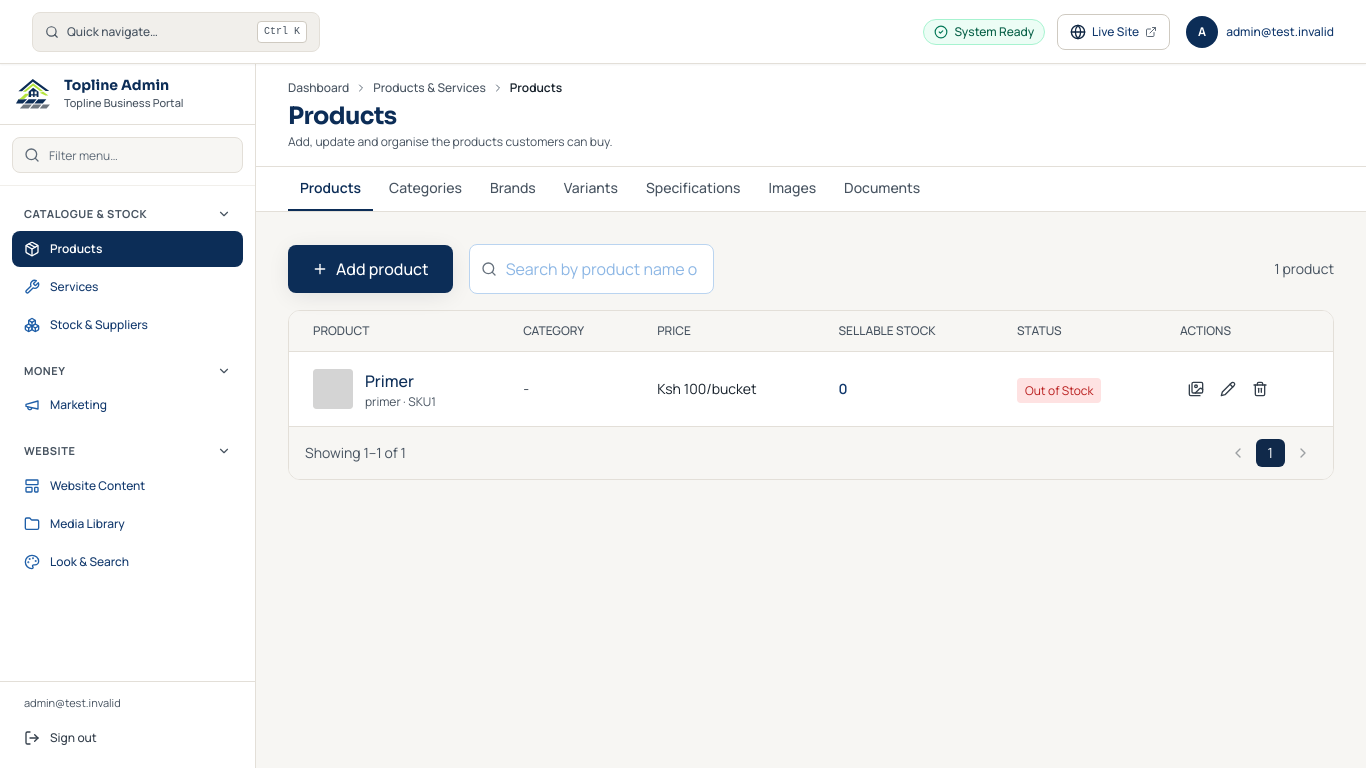
it: admin: edit product › explains a refused update in plain words instead of failing silently
Click the button titled "Edit product". click: (1228, 389)
box: [1212, 373, 1244, 405]
(page scrolled)
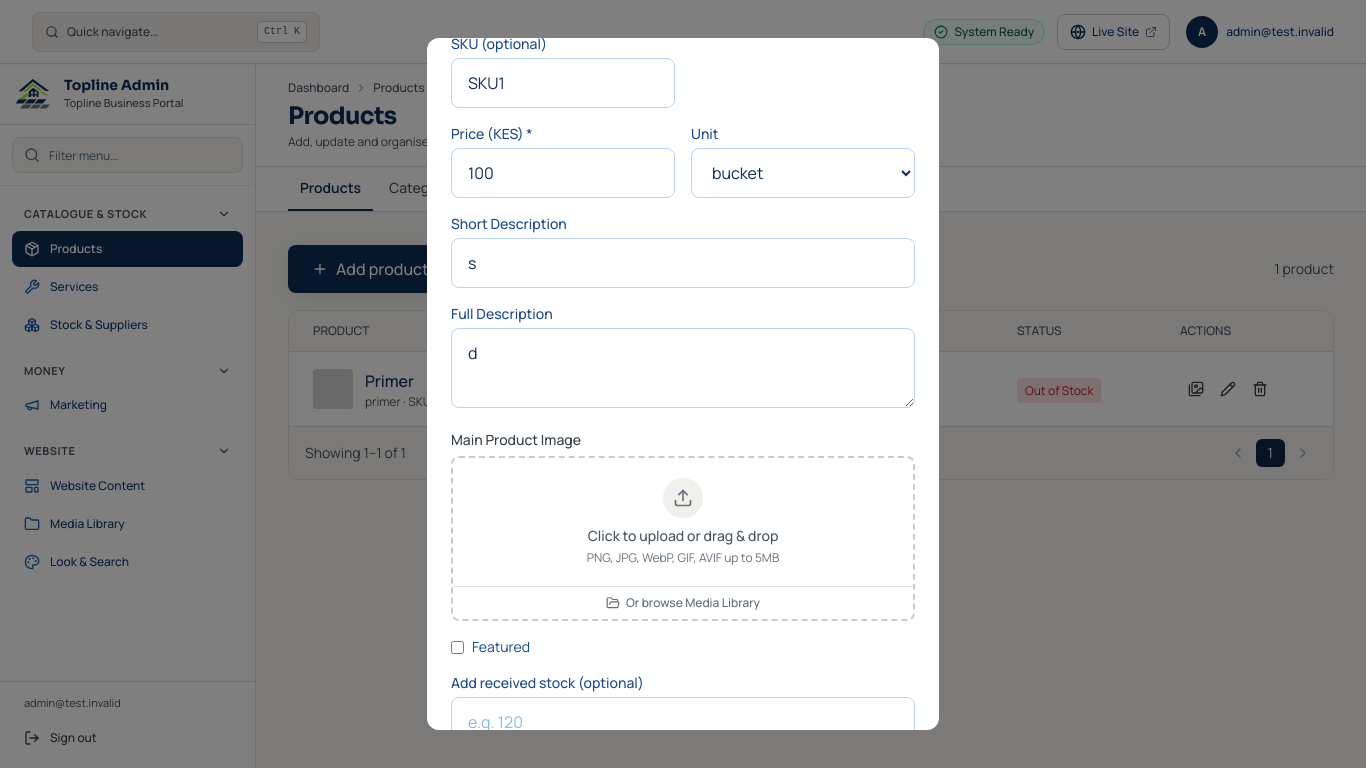
Now the field with placeholder "One line shown on product cards" below "Short Description" is shown, box [451, 238, 915, 288]
Submit the form
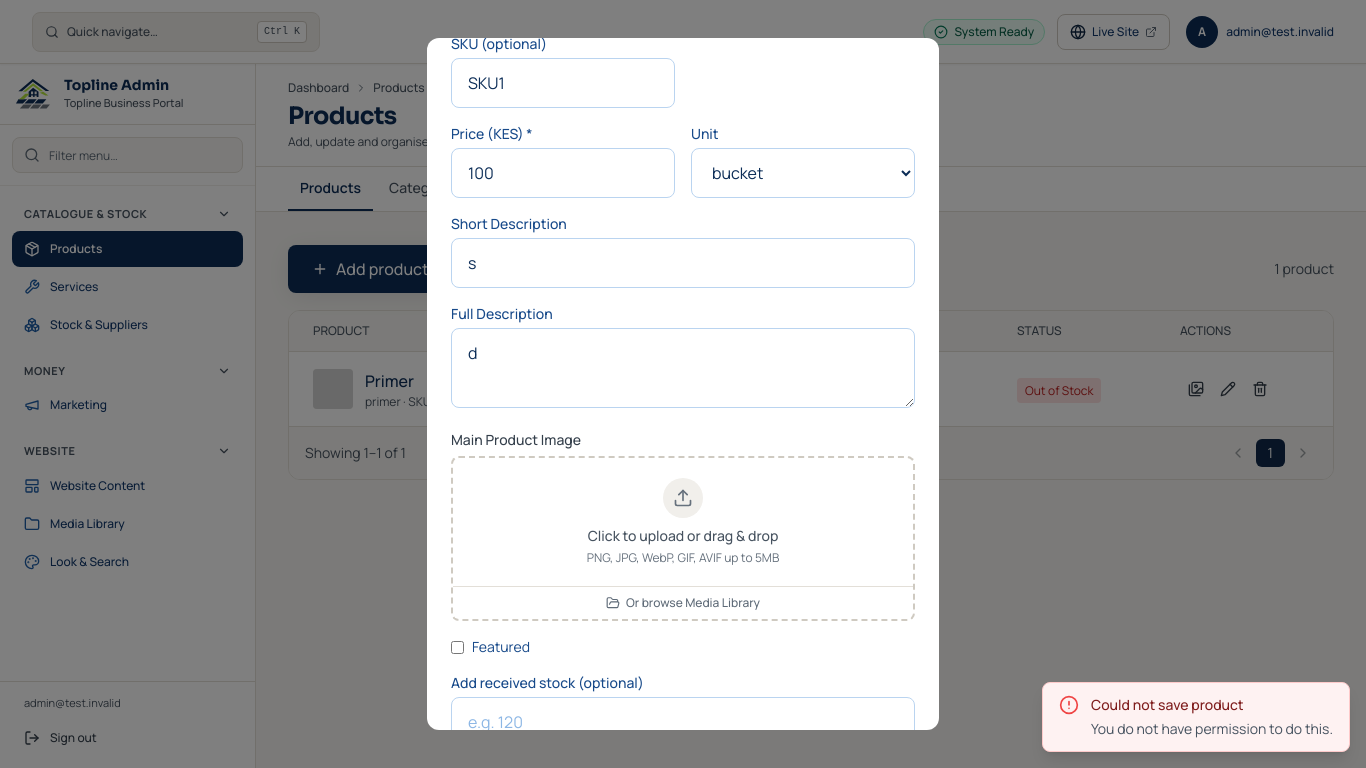
Now the text "Could not save product" is shown, box [1091, 695, 1244, 714]
Now the text "You do not have permission to do this." is shown, box [1091, 719, 1333, 739]
